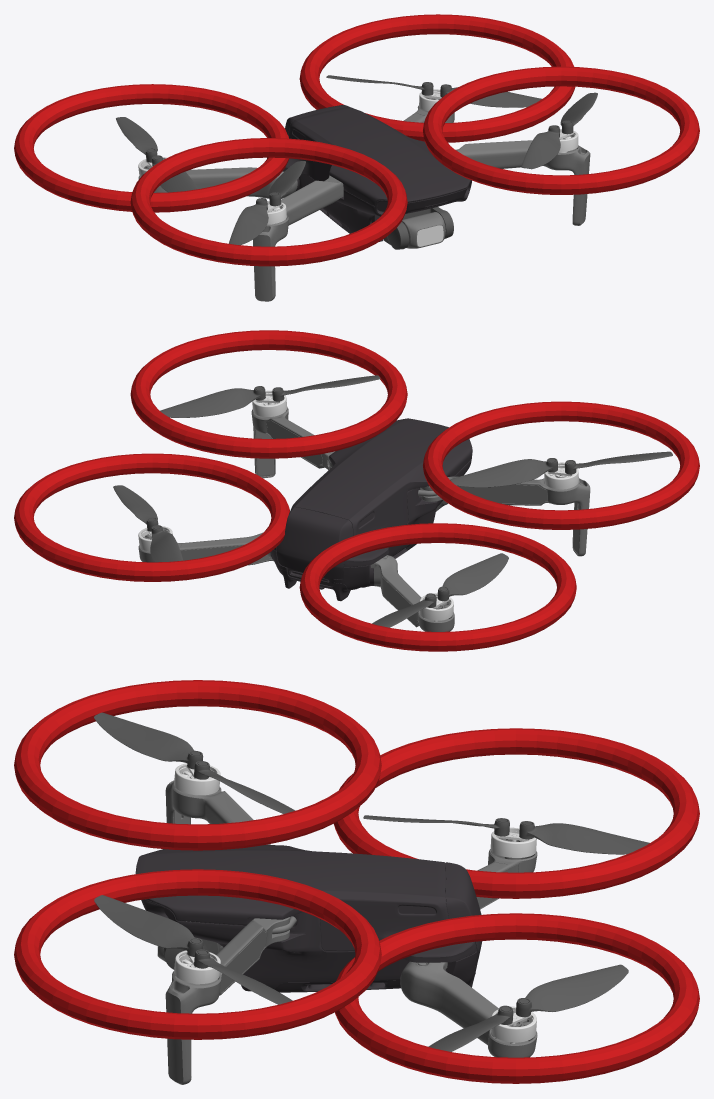
The model's file is DJI_Mavic_red.glb.
3 renders of one model, top to bottom at view 1: azimuth 30°, elevation 25°; view 2: azimuth 150°, elevation 25°; view 3: azimuth 270°, elevation 25°, orthographic. The views are drawn at different scales.
Visible parts, largest first — view 1: Torus.001, Torus.002, Torus.003, Body, Torus, Front Right arm, Front Left arm, Rear Right arm, dji_mini_2_open.015, dji_mini_2_open.016, dji_mini_2_open.027, Camera gimbal (+7 smaller); view 2: Body, Torus.001, Torus.003, Torus.002, Torus, Front Right arm, Rear Right arm, dji_mini_2_open.019, Front Left arm, dji_mini_2_open.017, dji_mini_2_open.043, Rear Left arm (+8 smaller); view 3: Body, Torus.002, Torus.001, Torus, Torus.003, Front Left arm, Rear Left arm, dji_mini_2_open.079, dji_mini_2_open.016, dji_mini_2_open.015, dji_mini_2_open.042, Front Right arm (+9 smaller).
Boxes of the visible parts, left/top/right/bottom form: Torus.001: left=423, top=66, right=699, bottom=194; Torus.002: left=130, top=138, right=407, bottom=266; Torus.003: left=14, top=84, right=288, bottom=212; Body: left=267, top=105, right=471, bottom=241; Torus: left=299, top=14, right=575, bottom=142; Front Right arm: left=253, top=175, right=343, bottom=301; Front Left arm: left=455, top=140, right=590, bottom=225; Rear Right arm: left=138, top=165, right=297, bottom=198; dji_mini_2_open.015: left=229, top=198, right=268, bottom=245; dji_mini_2_open.016: left=521, top=125, right=560, bottom=169; dji_mini_2_open.027: left=440, top=84, right=541, bottom=107; Camera gimbal: left=383, top=207, right=453, bottom=249; Body: left=270, top=418, right=472, bottom=601; Torus.001: left=130, top=330, right=407, bottom=458; Torus.003: left=299, top=523, right=576, bottom=651; Torus.002: left=423, top=401, right=699, bottom=529; Torus: left=14, top=453, right=289, bottom=581; Front Right arm: left=418, top=476, right=590, bottom=556; Rear Right arm: left=371, top=555, right=454, bottom=631; dji_mini_2_open.019: left=450, top=458, right=557, bottom=487; Front Left arm: left=251, top=407, right=334, bottom=478; dji_mini_2_open.017: left=160, top=386, right=265, bottom=417; dji_mini_2_open.043: left=437, top=553, right=508, bottom=601; Rear Left arm: left=138, top=532, right=273, bottom=565; Body: left=135, top=845, right=482, bottom=992; Torus.002: left=14, top=680, right=381, bottom=850; Torus.001: left=14, top=869, right=381, bottom=1039; Torus: left=335, top=913, right=699, bottom=1083; Torus.003: left=334, top=728, right=699, bottom=898; Front Left arm: left=165, top=916, right=296, bottom=1084; Rear Left arm: left=400, top=961, right=537, bottom=1057; dji_mini_2_open.079: left=516, top=964, right=628, bottom=1017; dji_mini_2_open.016: left=94, top=895, right=203, bottom=956; dji_mini_2_open.015: left=94, top=712, right=203, bottom=769; dji_mini_2_open.042: left=519, top=821, right=649, bottom=854; Front Right arm: left=165, top=780, right=270, bottom=844.
Size of the model in its own units: 0.3205 by 0.0573 by 0.2695.
